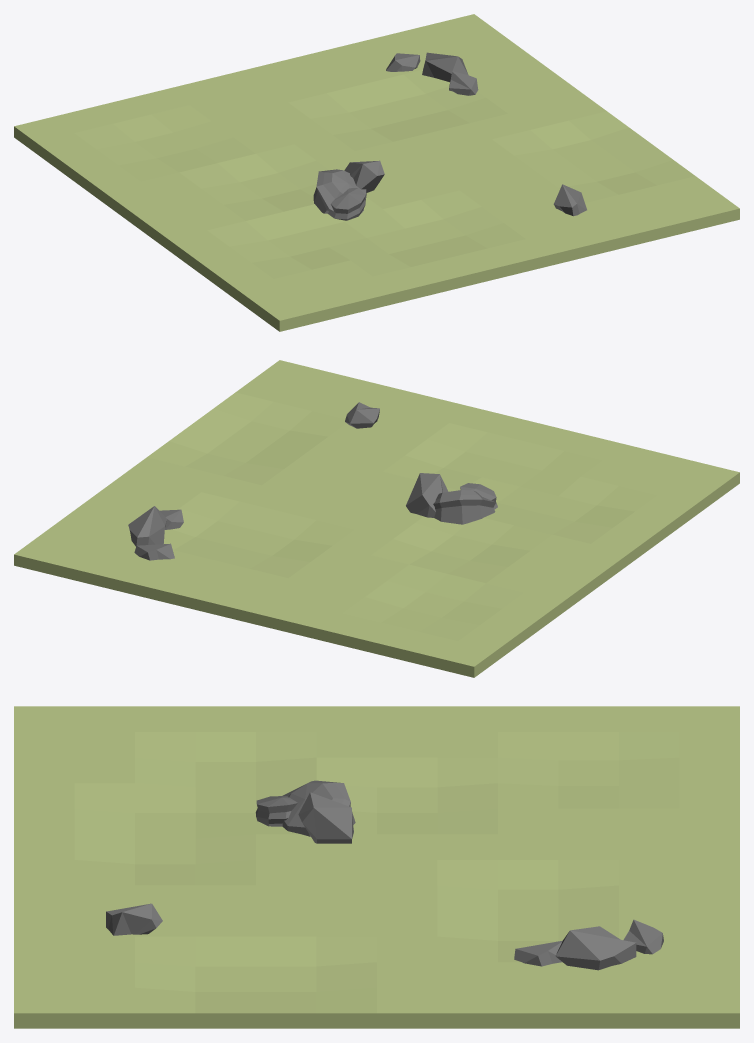
Rendered from Steppes I.fbx.
3 views of the same model, one above another, from view 1: azimuth 30°, elevation 25°; view 2: azimuth 150°, elevation 25°; view 3: azimuth 270°, elevation 25° (orthographic). The views are drawn at different scales.
Visible parts, largest first — view 1: Steppes I; view 2: Steppes I; view 3: Steppes I.
Part boxes in pixels (x1,y1,x2,y2): Steppes I: (14, 14, 739, 331); Steppes I: (14, 360, 739, 677); Steppes I: (14, 706, 739, 1028).
Bounding box in the file's own units: 1600 × 169 × 1600.
